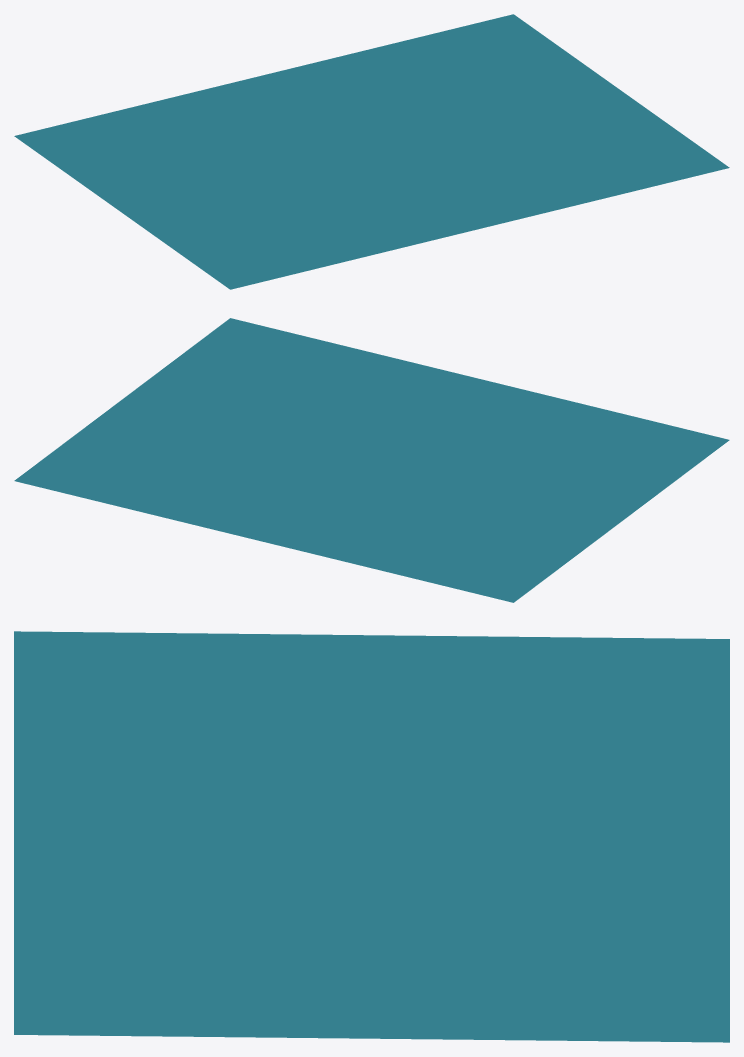
File: lago.fbx
The picture shows the model from 3 angles, top to bottom: view 1: azimuth 30°, elevation 25°; view 2: azimuth 150°, elevation 25°; view 3: azimuth 270°, elevation 25°; orthographic projection. The views are drawn at different scales.
Parts seen in each view (by area): view 1: Lago_LowPoly; view 2: Lago_LowPoly; view 3: Lago_LowPoly.
Part boxes in pixels (<box>): Lago_LowPoly: <box>14,14,729,289</box>; Lago_LowPoly: <box>14,318,729,602</box>; Lago_LowPoly: <box>14,631,729,1042</box>.
Size of the model in its own units: 1200 by 10.63 by 900.
